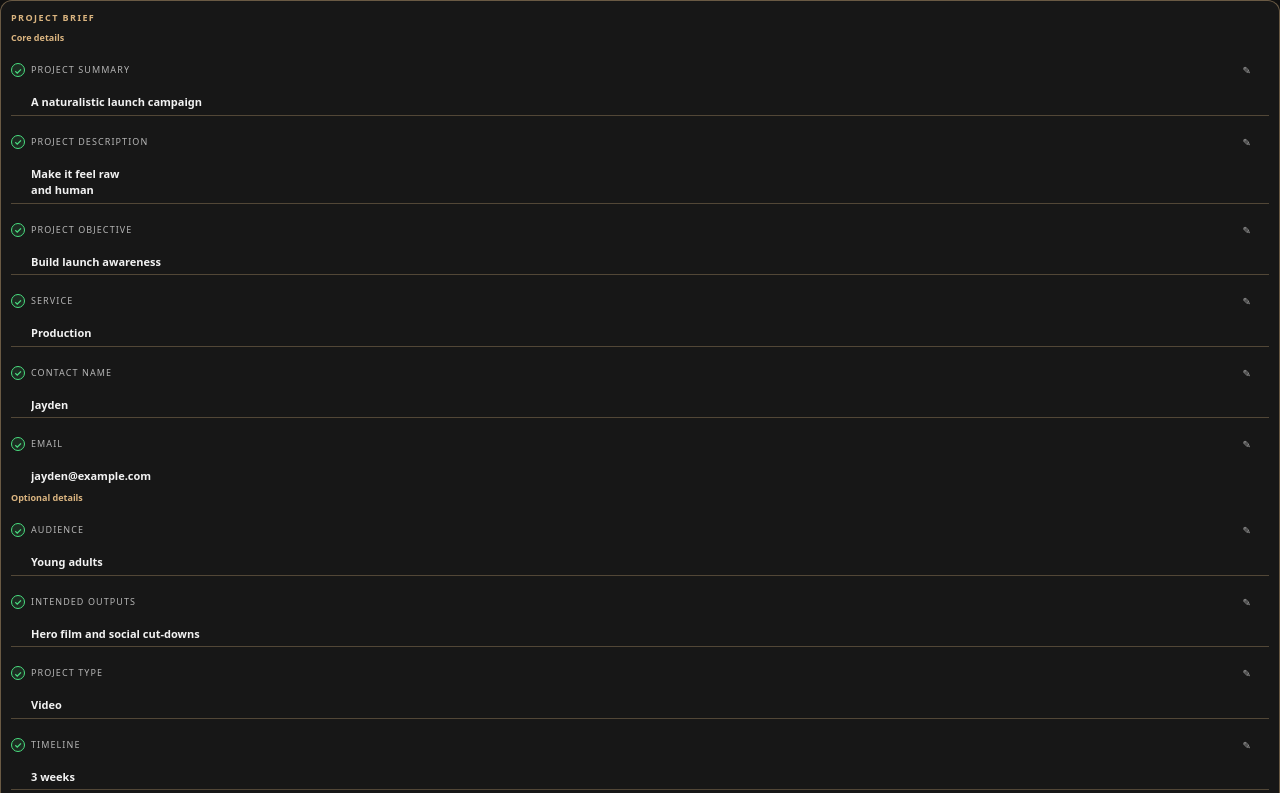
Test case: ProjectBriefCard › clicking the pencil on a row opens the editor and does not bubble
This screenshot has width=1280, height=793.
Click the button with test id "brief-row-edit-contactEmail" at (1247, 444), box [1225,422,1269,466]
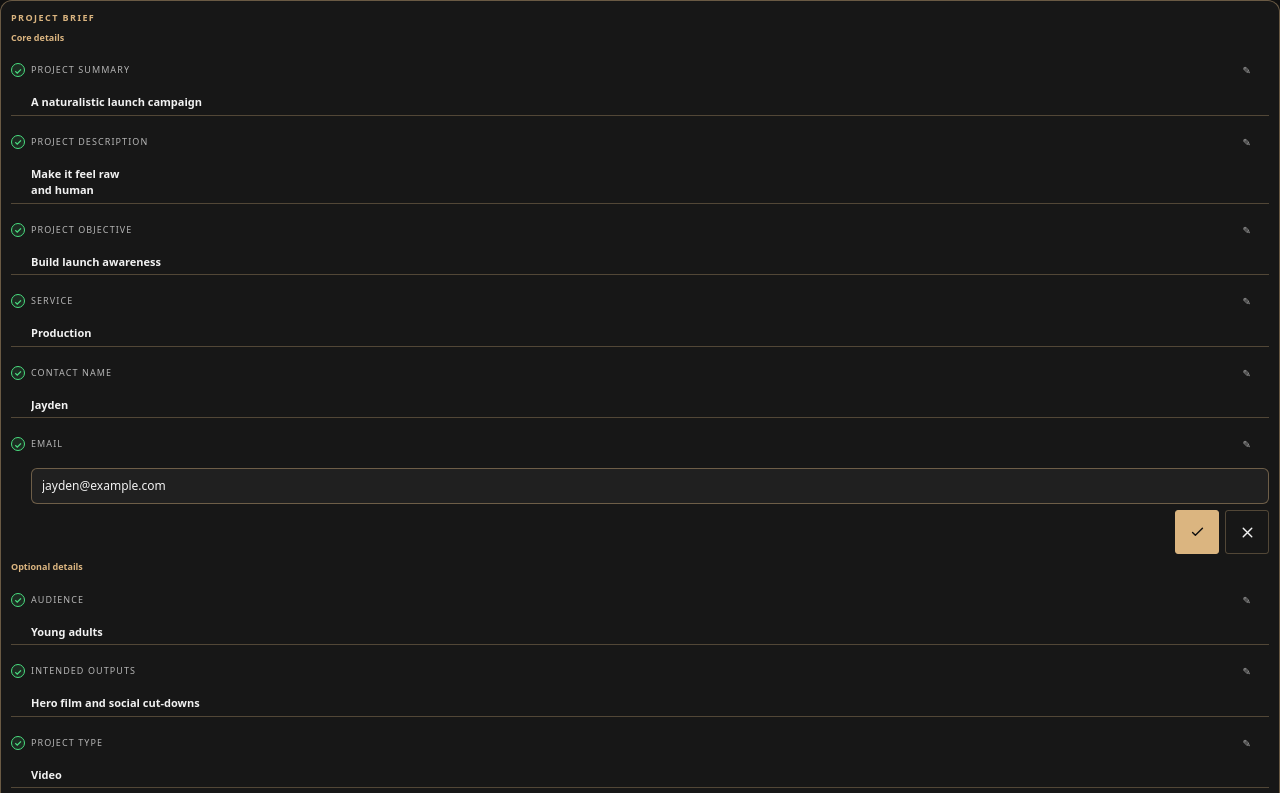
Check: the field is shown, box [31,468,1269,504]
